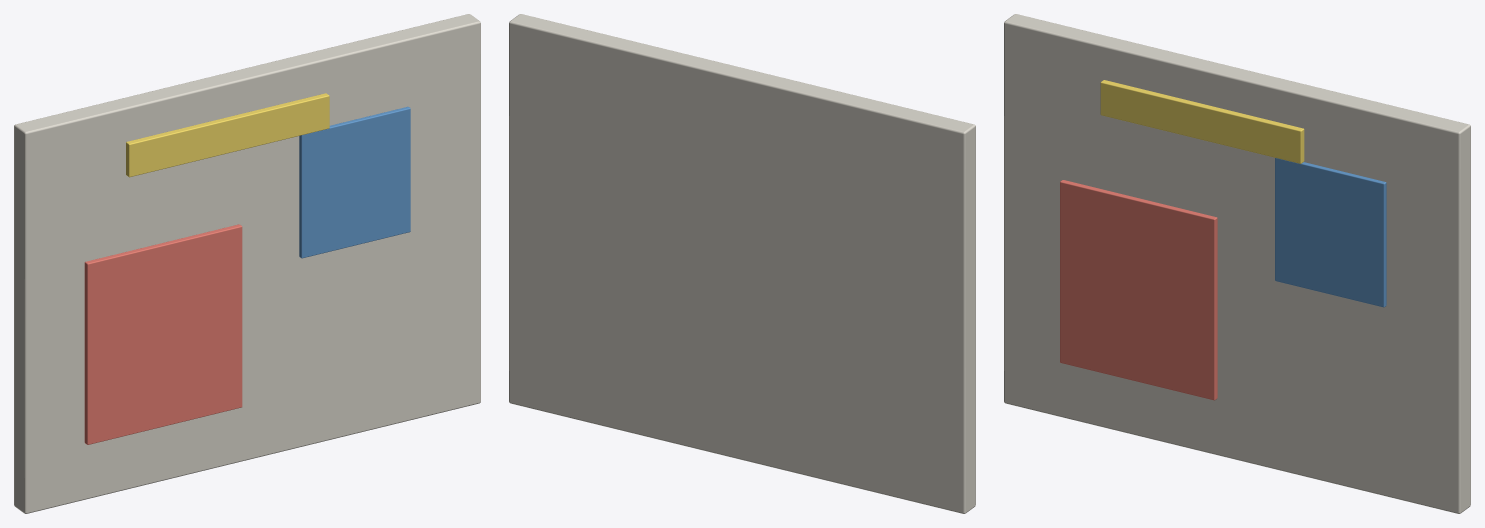
The picture shows the model from 3 angles, left to right: view 1: azimuth 30°, elevation 25°; view 2: azimuth 150°, elevation 25°; view 3: azimuth 330°, elevation 25°; orthographic projection.
Visible parts, largest first — view 1: stretched-canvas; view 2: stretched-canvas; view 3: stretched-canvas.
Boxes of the visible parts, x1,y1,x2,y2 form: stretched-canvas: (14,14,480,513); stretched-canvas: (509,14,975,513); stretched-canvas: (1004,14,1470,513).
Bounding box in the file's own units: 1 × 0.8 × 0.0585.
